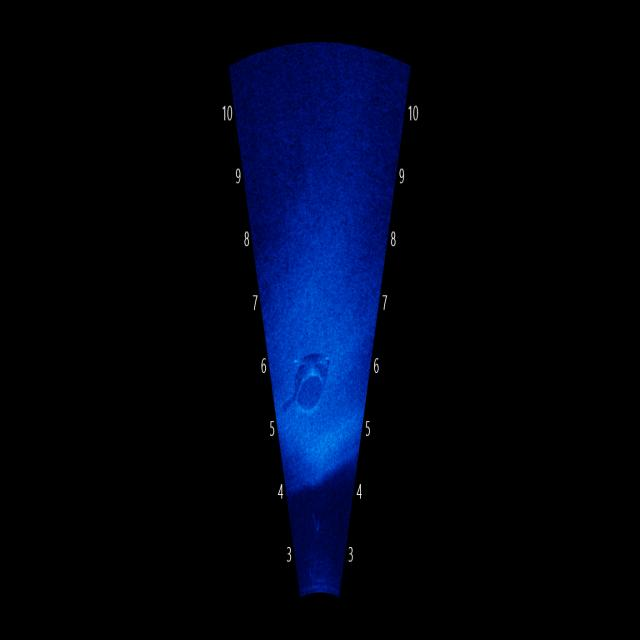circle: (286, 338, 340, 422)
